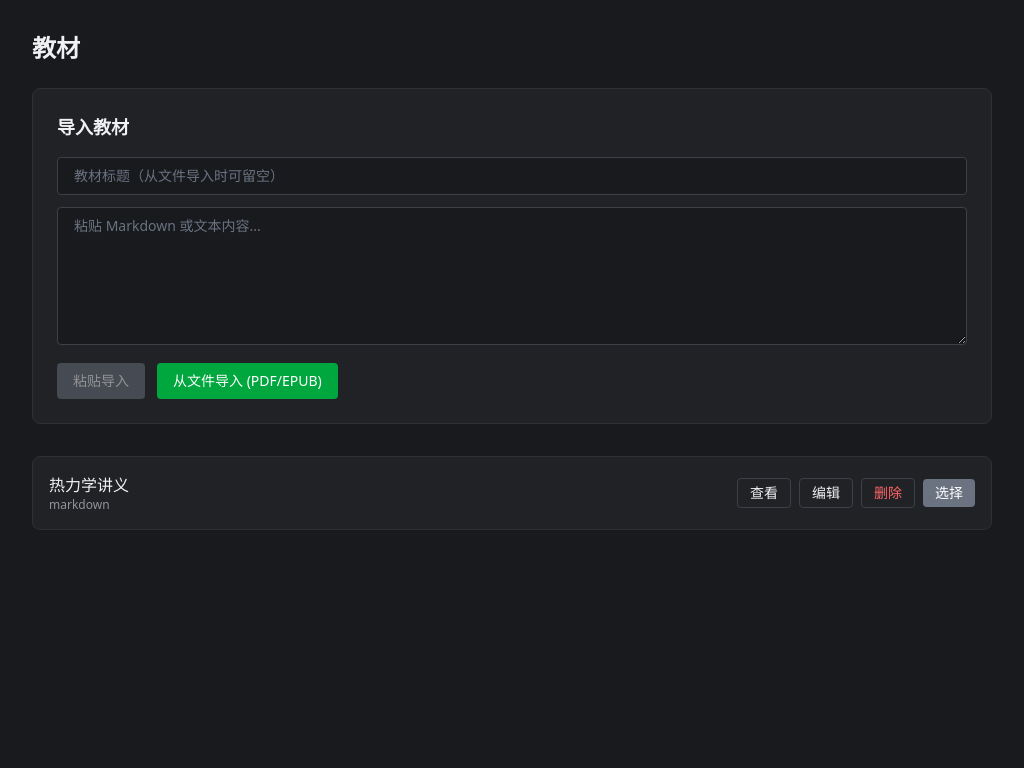
Test: TextbooksView — list actions › views content and closes the modal
Step 1. Click the button "查看" → {"x": 764, "y": 493}, box [737, 478, 791, 508]
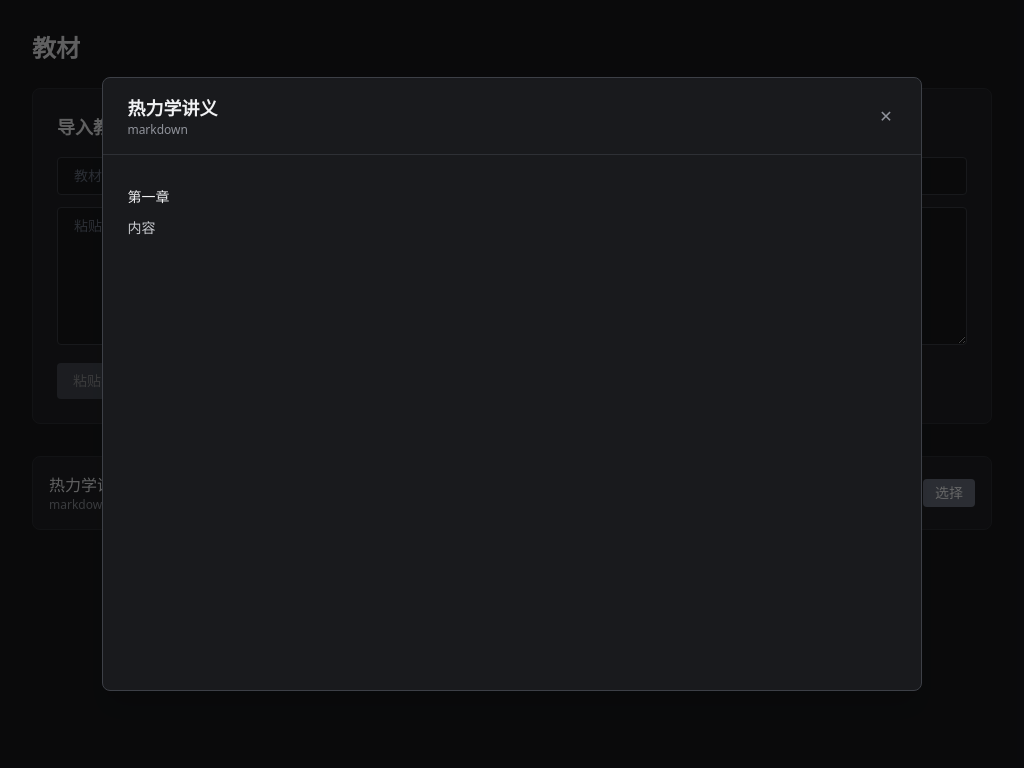
Check: the heading "第一章" is shown, box [127, 187, 169, 206]
Step 2. Click the button "✕" → {"x": 886, "y": 116}, box [875, 100, 897, 132]
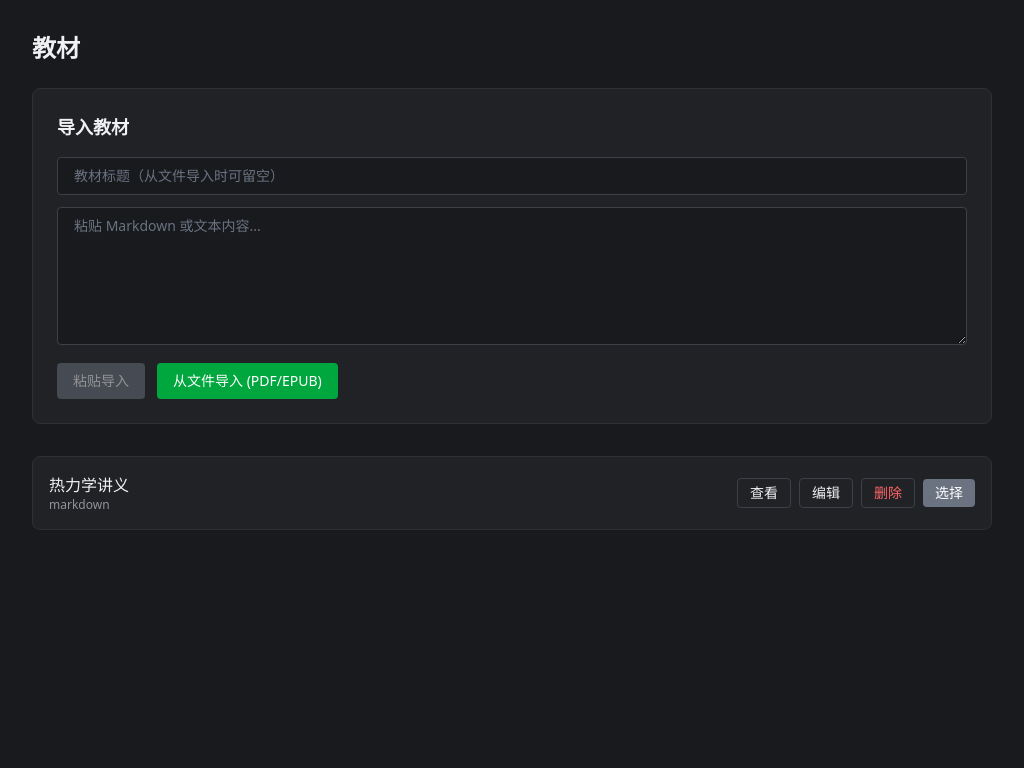
Check: the heading "第一章" is gone
